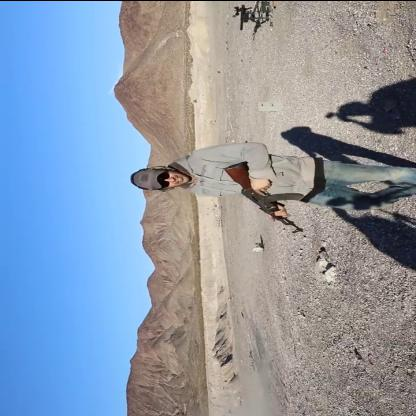long weapon: (216, 158, 313, 237), (229, 2, 269, 34)
